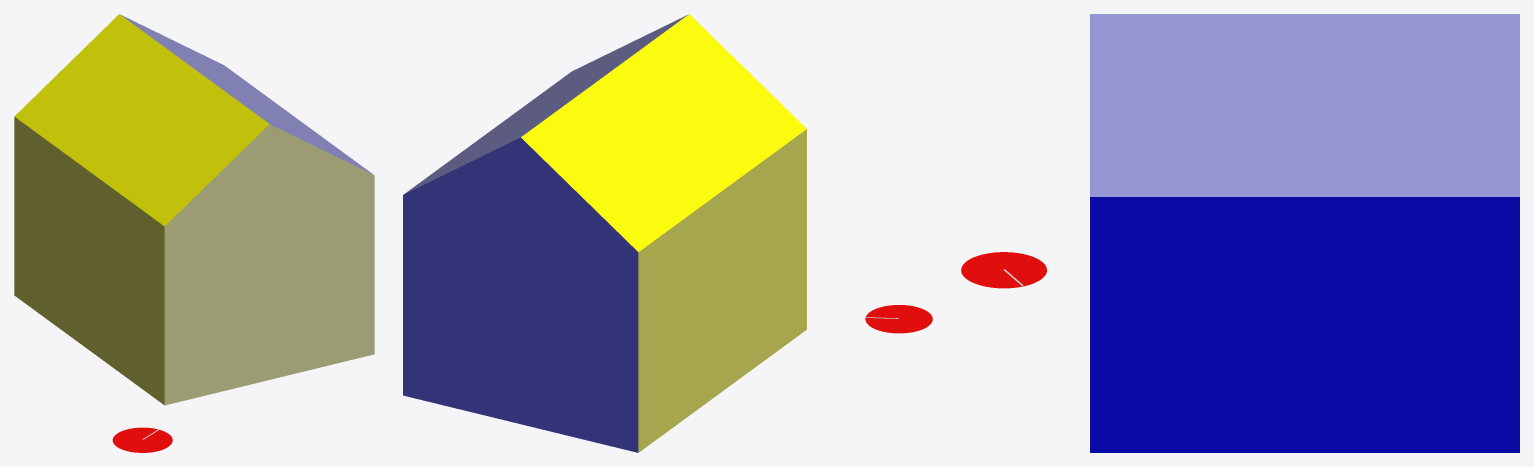
File: result.glb
The picture shows the model from 3 angles, left to right: view 1: azimuth 30°, elevation 25°; view 2: azimuth 150°, elevation 25°; view 3: azimuth 270°, elevation 25°; orthographic projection. The views are drawn at different scales.
Visible parts, largest first — view 1: 6310f3db-f2e8-4f2a-92f1-bf35dc6250dd__undefined, 0081c461-e673-45eb-a527-184cde0e1919__undefined, 7ef7eb2c-ca84-4986-8104-f2a85f75173b__undefined, 793e4e94-f8a0-4ca2-b31d-65eda4e10c42__undefined, ff5caafe-40af-4578-9db1-260462960df0__Circle; view 2: d75b9838-f5ab-41db-b059-634598e9c461__undefined, 0081c461-e673-45eb-a527-184cde0e1919__undefined, 7ef7eb2c-ca84-4986-8104-f2a85f75173b__undefined, 793e4e94-f8a0-4ca2-b31d-65eda4e10c42__undefined, ff5caafe-40af-4578-9db1-260462960df0__Circle; view 3: e921032d-85c4-432c-adc3-10ffcc051a6e__undefined, 793e4e94-f8a0-4ca2-b31d-65eda4e10c42__undefined, ff5caafe-40af-4578-9db1-260462960df0__Circle.
Boxes of the visible parts, <box> form: 6310f3db-f2e8-4f2a-92f1-bf35dc6250dd__undefined: <box>164,124,374,405</box>; 0081c461-e673-45eb-a527-184cde0e1919__undefined: <box>14,14,269,226</box>; 7ef7eb2c-ca84-4986-8104-f2a85f75173b__undefined: <box>14,117,164,404</box>; 793e4e94-f8a0-4ca2-b31d-65eda4e10c42__undefined: <box>120,14,373,174</box>; ff5caafe-40af-4578-9db1-260462960df0__Circle: <box>112,427,172,452</box>; d75b9838-f5ab-41db-b059-634598e9c461__undefined: <box>403,137,638,452</box>; 0081c461-e673-45eb-a527-184cde0e1919__undefined: <box>521,14,806,251</box>; 7ef7eb2c-ca84-4986-8104-f2a85f75173b__undefined: <box>638,129,806,452</box>; 793e4e94-f8a0-4ca2-b31d-65eda4e10c42__undefined: <box>404,14,688,194</box>; ff5caafe-40af-4578-9db1-260462960df0__Circle: <box>865,305,932,333</box>; e921032d-85c4-432c-adc3-10ffcc051a6e__undefined: <box>1090,197,1519,452</box>; 793e4e94-f8a0-4ca2-b31d-65eda4e10c42__undefined: <box>1090,14,1519,196</box>; ff5caafe-40af-4578-9db1-260462960df0__Circle: <box>961,252,1046,288</box>.
Bounding box in the file's own units: 553 × 469 × 650.
